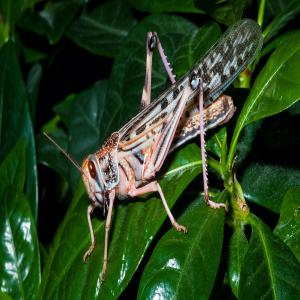locust: (82, 17, 269, 245)
